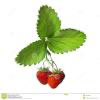Strawberry leaf: (44, 27, 88, 55), (13, 38, 49, 67), (35, 3, 61, 41)
